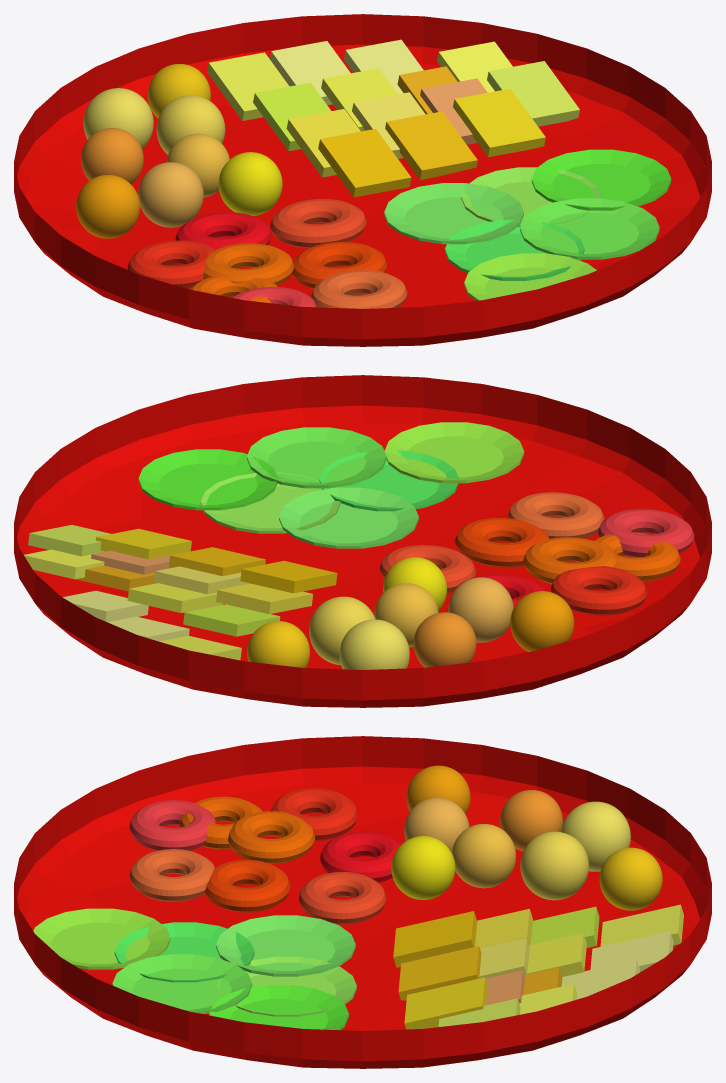
File: 1.TRADISIONA[NO WARNA}.fbx
3 renders of one model, top to bottom at view 1: azimuth 30°, elevation 25°; view 2: azimuth 150°, elevation 25°; view 3: azimuth 270°, elevation 25°, orthographic.
Visible parts, largest first — view 1: Cylinder, Cylinder.004, Cylinder.002, Cylinder.005, Cube.011, Cube.013, Cube.012, Cylinder.006, Torus.006, Cube.005, Icosphere.002, Cylinder.001 (+25 smaller); view 2: Cylinder, Cylinder.004, Cylinder.006, Cylinder.005, Cylinder.002, Torus, Cylinder.001, Torus.007, Torus.005, Cylinder.003, Torus.004, Icosphere.001 (+25 smaller); view 3: Cylinder, Cylinder.002, Cylinder.006, Cylinder.004, Cylinder.005, Icosphere.004, Torus.006, Torus.003, Torus.007, Torus.005, Torus.004, Icosphere.007 (+25 smaller).
Part boxes in pixels (left/top/right/bottom): Cylinder: left=14, top=14, right=711, bottom=346; Cylinder.004: left=520, top=198, right=659, bottom=259; Cylinder.002: left=384, top=183, right=523, bottom=244; Cylinder.005: left=531, top=149, right=671, bottom=210; Cube.011: left=318, top=129, right=411, bottom=197; Cube.013: left=453, top=88, right=545, bottom=157; Cube.012: left=385, top=111, right=477, bottom=179; Cylinder.006: left=464, top=253, right=596, bottom=300; Torus.006: left=270, top=199, right=366, bottom=248; Cube.005: left=487, top=61, right=579, bottom=126; Icosphere.002: left=138, top=162, right=203, bottom=227; Cylinder.001: left=445, top=219, right=584, bottom=280; Cylinder: left=14, top=375, right=711, bottom=707; Cylinder.004: left=247, top=427, right=386, bottom=488; Cylinder.006: left=384, top=422, right=524, bottom=483; Cylinder.005: left=138, top=449, right=278, bottom=510; Cylinder.002: left=279, top=487, right=418, bottom=548; Torus: left=551, top=566, right=646, bottom=615; Cylinder.001: left=319, top=450, right=458, bottom=511; Torus.007: left=455, top=518, right=549, bottom=567; Torus.005: left=508, top=492, right=604, bottom=538; Cylinder.003: left=200, top=472, right=340, bottom=533; Torus.004: left=598, top=509, right=694, bottom=557; Icosphere.001: left=510, top=591, right=574, bottom=651; Cylinder: left=14, top=736, right=711, bottom=1068; Cylinder.002: left=216, top=915, right=355, bottom=976; Cylinder.006: left=33, top=908, right=170, bottom=969; Cylinder.004: left=112, top=954, right=252, bottom=1013; Cylinder.005: left=209, top=985, right=348, bottom=1030; Icosphere.004: left=520, top=831, right=588, bottom=900; Torus.006: left=299, top=872, right=386, bottom=924; Torus.003: left=228, top=811, right=314, bottom=863; Torus.007: left=205, top=860, right=290, bottom=912; Torus.005: left=129, top=849, right=214, bottom=901; Torus.004: left=129, top=800, right=216, bottom=850; Icosphere.007: left=391, top=836, right=455, bottom=899.
Bounding box in the file's own units: 571 × 64.2 × 571.
